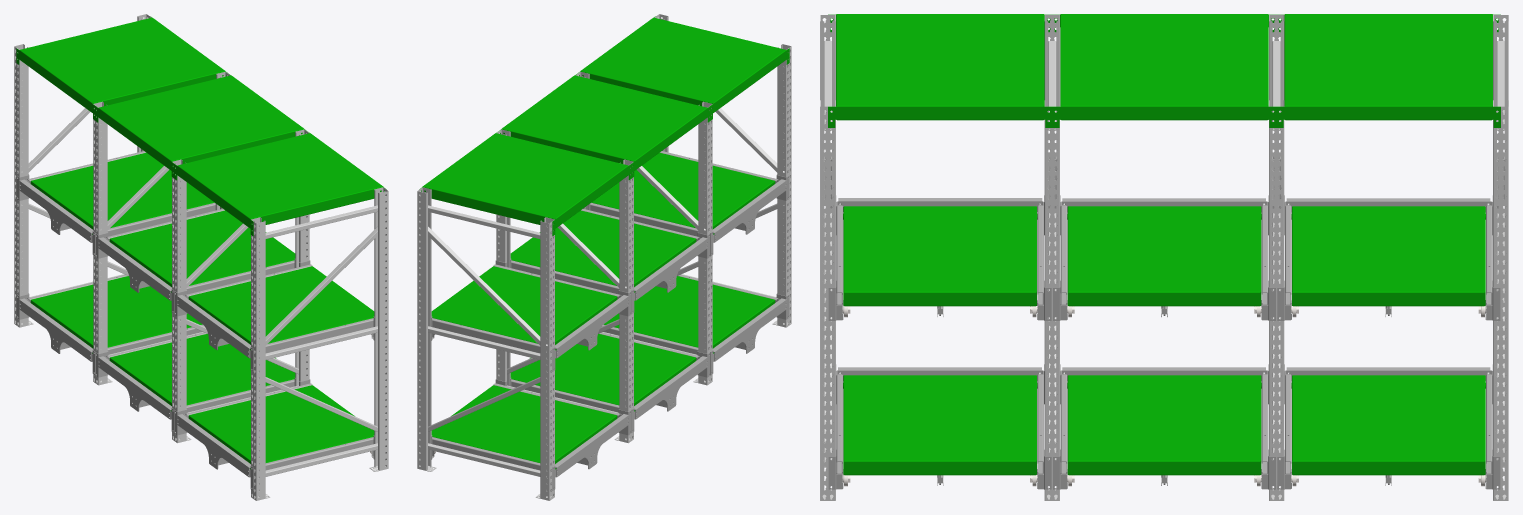
The model's file is mold_rack.gltf.
The picture shows the model from 3 angles, left to right: view 1: azimuth 30°, elevation 25°; view 2: azimuth 150°, elevation 25°; view 3: azimuth 270°, elevation 25°; orthographic projection. The views are drawn at different scales.
Visible parts, largest first — view 1: 4940T133_Heavy Duty Pallet Rack-1, PANEL ATAS-3, PANEL ATAS-2, PANEL ATAS-1, DRAWER-2, DRAWER-1, DRAWER-3, DRAWER-5, DRAWER-4, DRAWER-6, 4940T133_Heavy Duty Pallet Rack-2, MirrorRAIL 1-1 (×6) (+8 smaller); view 2: 4940T133_Heavy Duty Pallet Rack-4, PANEL ATAS-1, PANEL ATAS-2, PANEL ATAS-3, DRAWER-6, DRAWER-5, DRAWER-3, DRAWER-1, DRAWER-4, DRAWER-2, 4940T133_Heavy Duty Pallet Rack-3, RAIL 1-1 (×6) (+8 smaller); view 3: PANEL ATAS-2, PANEL ATAS-1, PANEL ATAS-3, DRAWER-3, DRAWER-4, DRAWER-6, DRAWER-2, DRAWER-1, DRAWER-5, 4940T133_Heavy Duty Pallet Rack-1, 4940T133_Heavy Duty Pallet Rack-4, 4940T133_Heavy Duty Pallet Rack-3 (+9 smaller).
Boxes of the visible parts, x1=… form: 4940T133_Heavy Duty Pallet Rack-1: x1=251, y1=187, x2=388, y2=500; PANEL ATAS-3: x1=174, y1=131, x2=386, y2=236; PANEL ATAS-2: x1=95, y1=74, x2=306, y2=178; PANEL ATAS-1: x1=16, y1=16, x2=228, y2=120; DRAWER-2: x1=188, y1=385, x2=374, y2=469; DRAWER-1: x1=188, y1=266, x2=374, y2=350; DRAWER-3: x1=109, y1=210, x2=295, y2=292; DRAWER-5: x1=30, y1=152, x2=214, y2=234; DRAWER-4: x1=109, y1=334, x2=295, y2=411; DRAWER-6: x1=30, y1=276, x2=202, y2=353; 4940T133_Heavy Duty Pallet Rack-2: x1=172, y1=129, x2=309, y2=443; MirrorRAIL 1-1 (×6): x1=92, y1=202, x2=373, y2=477; 4940T133_Heavy Duty Pallet Rack-4: x1=417, y1=187, x2=554, y2=500; PANEL ATAS-1: x1=419, y1=131, x2=631, y2=236; PANEL ATAS-2: x1=499, y1=74, x2=710, y2=178; PANEL ATAS-3: x1=577, y1=16, x2=789, y2=120; DRAWER-6: x1=431, y1=385, x2=617, y2=469; DRAWER-5: x1=431, y1=266, x2=617, y2=350; DRAWER-3: x1=510, y1=210, x2=696, y2=292; DRAWER-1: x1=591, y1=152, x2=775, y2=234; DRAWER-4: x1=510, y1=334, x2=696, y2=411; DRAWER-2: x1=603, y1=276, x2=775, y2=353; 4940T133_Heavy Duty Pallet Rack-3: x1=496, y1=129, x2=633, y2=443; RAIL 1-1 (×6): x1=432, y1=202, x2=714, y2=477; PANEL ATAS-2: x1=1052, y1=14, x2=1276, y2=127; PANEL ATAS-1: x1=1276, y1=14, x2=1500, y2=127; PANEL ATAS-3: x1=828, y1=14, x2=1052, y2=127; DRAWER-3: x1=1067, y1=206, x2=1261, y2=306; DRAWER-4: x1=1067, y1=375, x2=1261, y2=475; DRAWER-6: x1=1291, y1=375, x2=1485, y2=475; DRAWER-2: x1=843, y1=375, x2=1037, y2=475; DRAWER-1: x1=843, y1=206, x2=1037, y2=306; DRAWER-5: x1=1291, y1=206, x2=1485, y2=306; 4940T133_Heavy Duty Pallet Rack-1: x1=820, y1=15, x2=835, y2=500; 4940T133_Heavy Duty Pallet Rack-4: x1=1493, y1=15, x2=1508, y2=500; 4940T133_Heavy Duty Pallet Rack-3: x1=1269, y1=15, x2=1284, y2=500.
Bounding box in the file's own units: 1.08 × 2.14 × 3.38.
